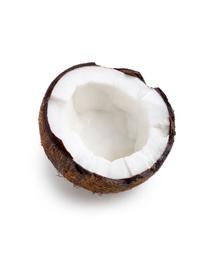coconut: (39, 62, 176, 194)
